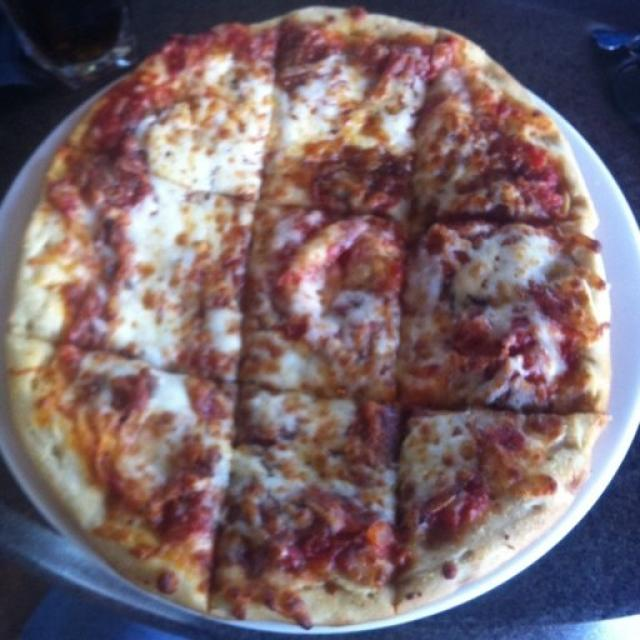Pizza: (0, 7, 614, 628)
